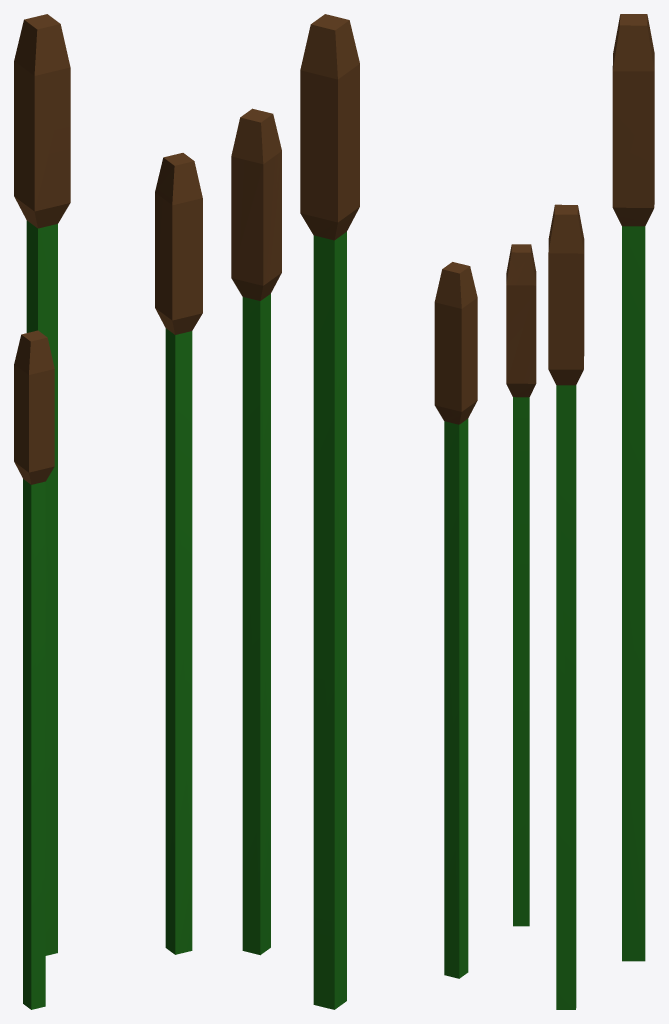
The model's file is reed_cattail.glb.
3 renders of one model, left to right at view 1: azimuth 30°, elevation 25°; view 2: azimuth 150°, elevation 25°; view 3: azimuth 270°, elevation 25°, orthographic. The views are drawn at different scales.
Parts seen in each view (by area): view 1: Reed Single; view 2: Reed Single; view 3: Reed Single.
Boxes of the visible parts, x1,y1,x2,y2 form: Reed Single: [14, 14, 202, 1009]; Reed Single: [231, 14, 477, 1009]; Reed Single: [506, 14, 654, 1009].
Size of the model in its own units: 0.1318 by 0.6 by 0.0862.
Materials: 1 (1 with a texture image).
